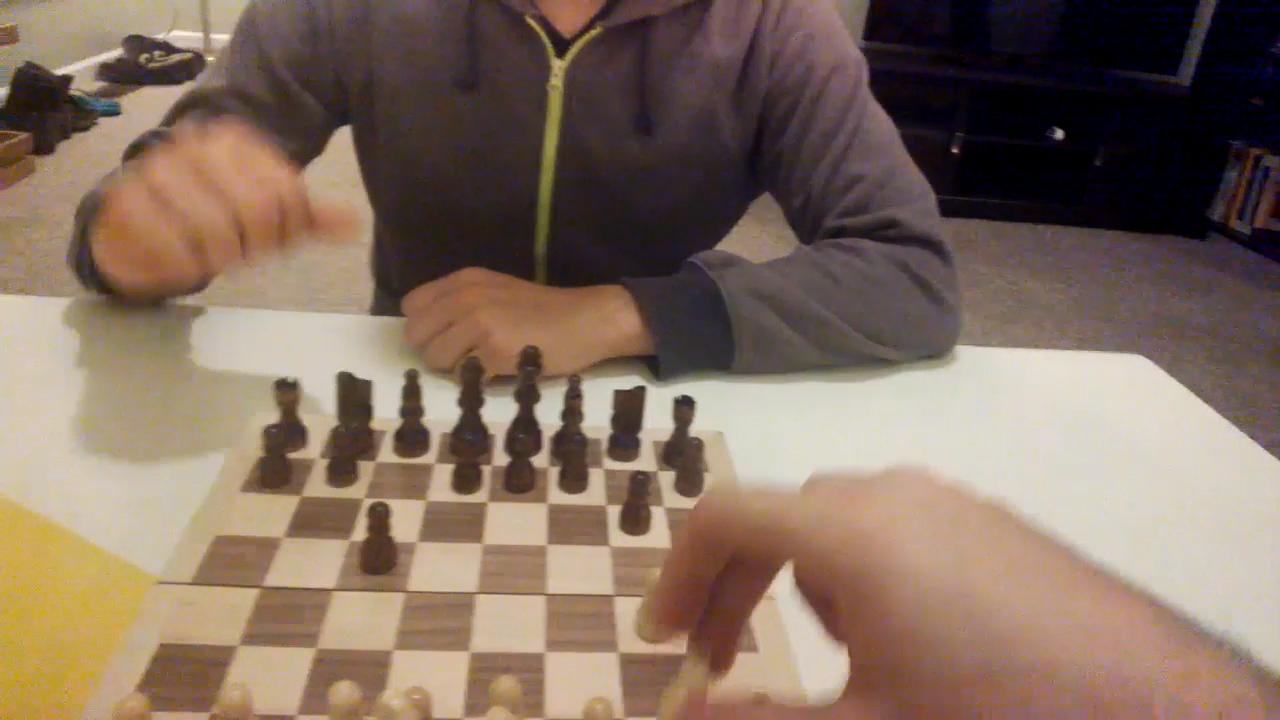hand: (624, 448, 1119, 720), (88, 116, 375, 312), (395, 255, 598, 384)
